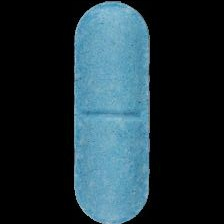54868-4435: (0, 0, 224, 224)
